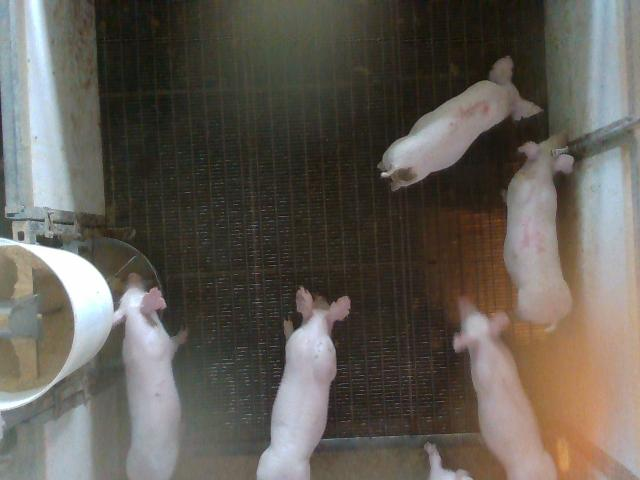pig-4: (504, 134, 574, 332)
pig-5: (378, 56, 542, 191)
